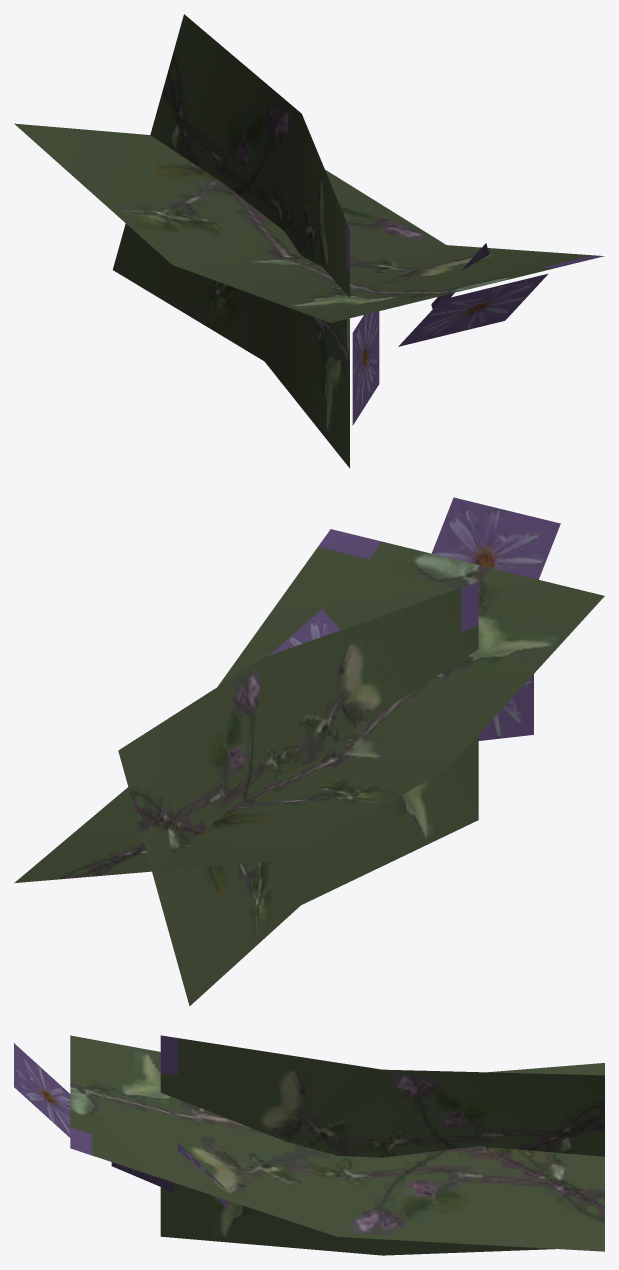
File: nt_2020_foliage_plants_flowers03_LOD1.obj
The picture shows the model from 3 angles, top to bottom: view 1: azimuth 30°, elevation 25°; view 2: azimuth 150°, elevation 25°; view 3: azimuth 270°, elevation 25°; orthographic projection. The views are drawn at different scales.
Parts seen in each view (by area): view 1: t5_foliage_flowers03; view 2: t5_foliage_flowers03; view 3: t5_foliage_flowers03.
Boxes of the visible parts, bbox=[...] form: t5_foliage_flowers03: bbox=[14, 14, 604, 468]; t5_foliage_flowers03: bbox=[14, 497, 604, 1006]; t5_foliage_flowers03: bbox=[14, 1035, 604, 1255].
Size of the model in its own units: 66.32 by 55.12 by 147.
1 material, 1 textured.
